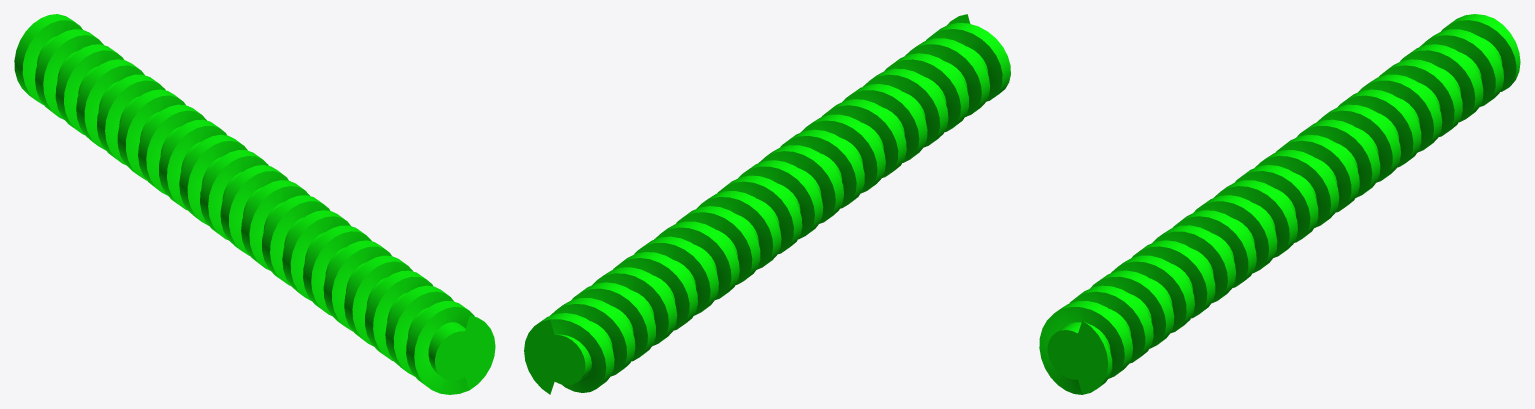
Rendered from linear-screw-2000.glb.
The picture shows the model from 3 angles, left to right: view 1: azimuth 30°, elevation 25°; view 2: azimuth 150°, elevation 25°; view 3: azimuth 330°, elevation 25°; orthographic projection.
Visible parts, largest first — view 1: Body4; view 2: Body4; view 3: Body4.
Part boxes in pixels (<box>): Body4: <box>14,14,495,394</box>; Body4: <box>524,14,1010,394</box>; Body4: <box>1039,14,1520,394</box>.
Bounding box in the file's own units: 0.21 × 0.21 × 2.
